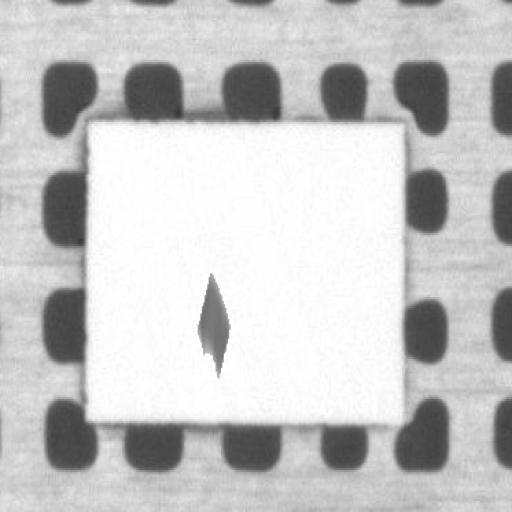DIE_INK: (194, 272, 229, 376)
